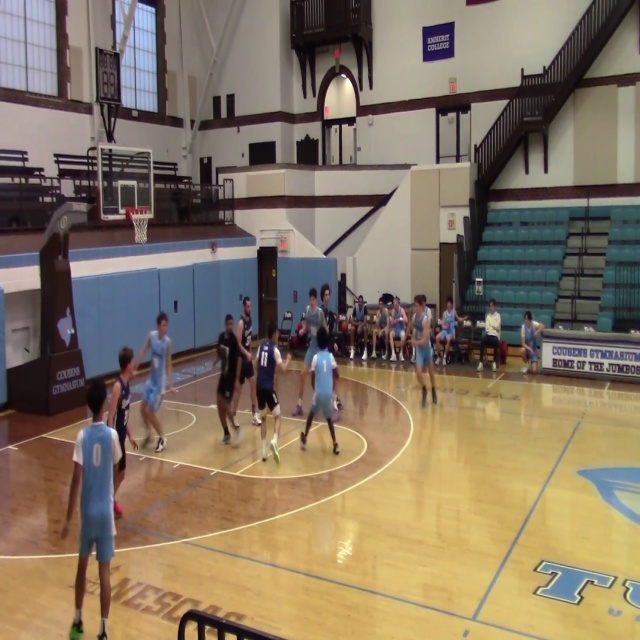Basketball: (218, 345, 229, 360)
